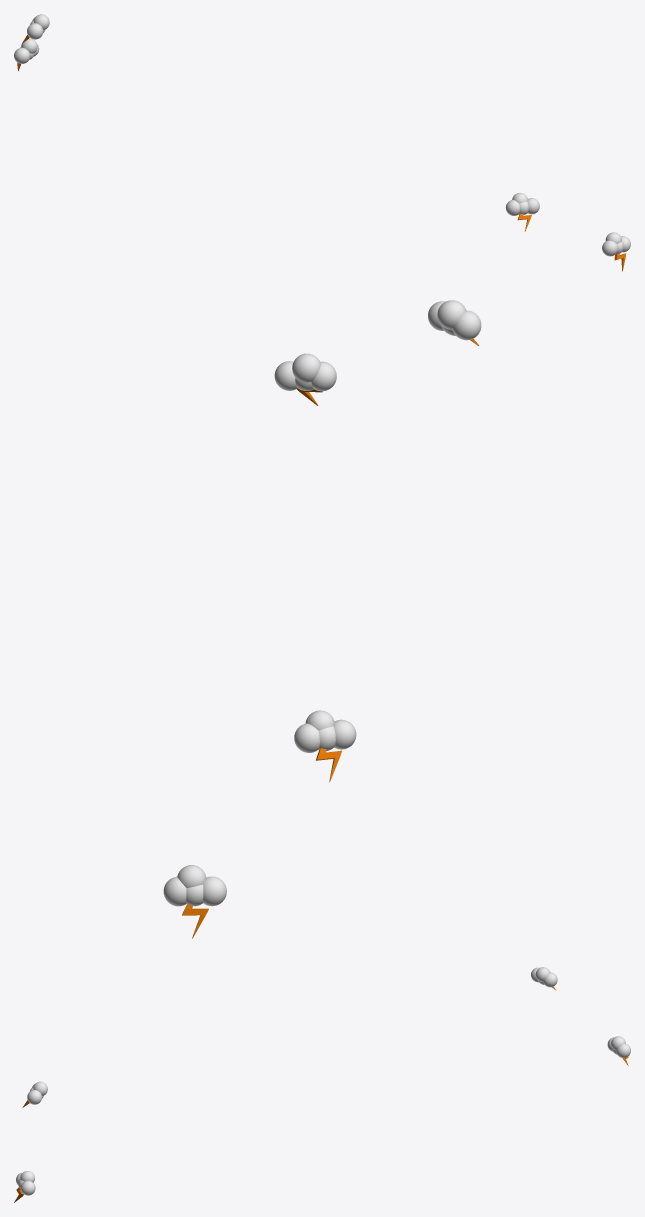
The model's file is storms_pre.glb.
3 renders of one model, top to bottom at view 1: azimuth 30°, elevation 25°; view 2: azimuth 150°, elevation 25°; view 3: azimuth 270°, elevation 25°, orthographic. The views are drawn at different scales.
Parts seen in each view (by area): view 1: Sphere.016, Sphere.024, Sphere.004, Sphere.006; view 2: Sphere.004, Sphere.006, Sphere.024, Sphere.016; view 3: Sphere.024, Sphere.006, Sphere.004, Sphere.016.
Part boxes in pixels (left/top/right/bottom): Sphere.016: left=505, top=193, right=539, bottom=231; Sphere.024: left=602, top=232, right=630, bottom=271; Sphere.004: left=14, top=38, right=39, bottom=71; Sphere.006: left=22, top=14, right=49, bottom=43; Sphere.004: left=163, top=865, right=226, bottom=938; Sphere.006: left=294, top=710, right=356, bottom=782; Sphere.024: left=274, top=353, right=336, bottom=405; Sphere.016: left=428, top=300, right=481, bottom=345; Sphere.024: left=14, top=1171, right=35, bottom=1202; Sphere.006: left=531, top=967, right=557, bottom=989; Sphere.004: left=607, top=1036, right=630, bottom=1065; Sphere.016: left=22, top=1081, right=47, bottom=1107.
Bounding box in the file's own units: 94.67 × 32.41 × 172.
